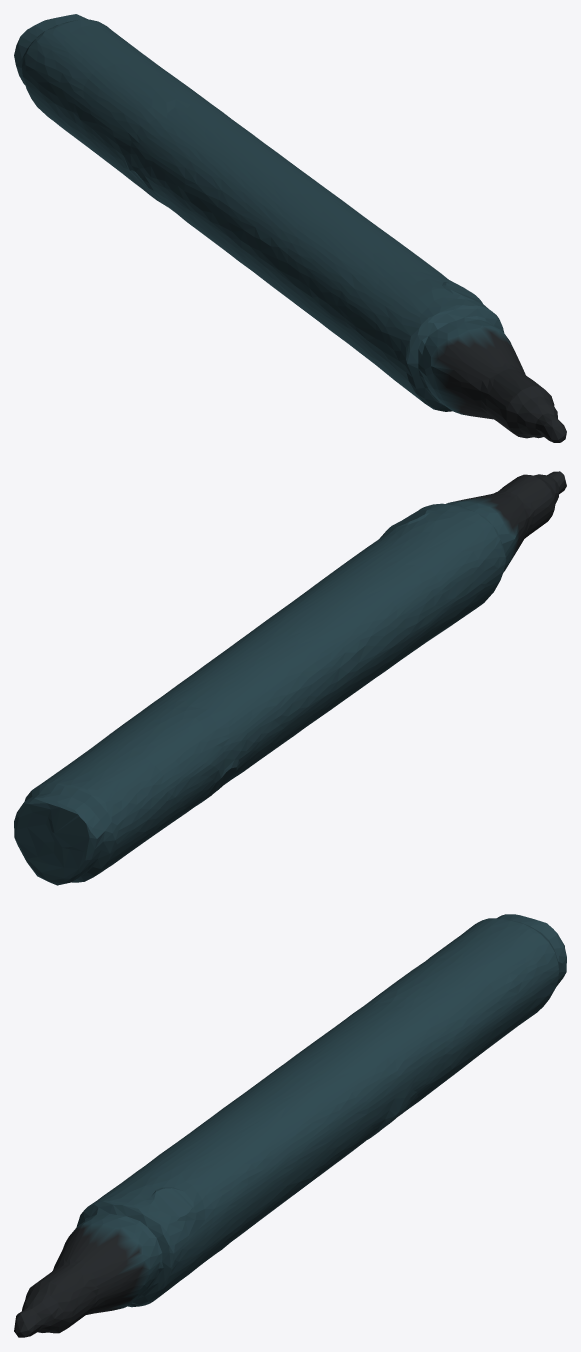
3 views of the same model, one above another, from view 1: azimuth 30°, elevation 25°; view 2: azimuth 150°, elevation 25°; view 3: azimuth 330°, elevation 25° (orthographic).
Visible parts, largest first — view 1: scan.ply; view 2: scan.ply; view 3: scan.ply.
Part boxes in pixels (left/top/right/bottom): scan.ply: left=14, top=14, right=566, bottom=442; scan.ply: left=14, top=471, right=566, bottom=885; scan.ply: left=14, top=914, right=566, bottom=1337.
Size of the model in its own units: 0.0161 by 0.0164 by 0.1439.
